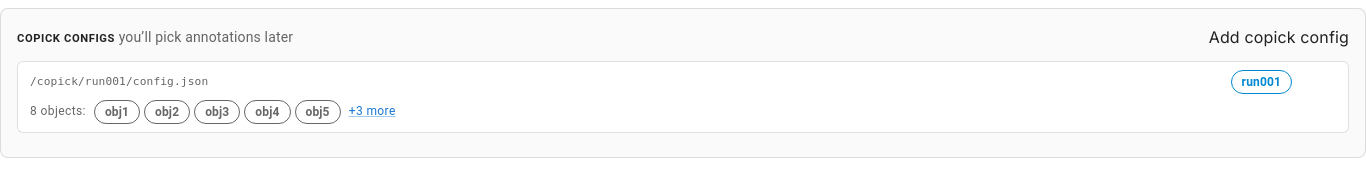
Test: caps the object chips and expands via "+N more"
This screenshot has width=1366, height=175.
Expected: the text "obj5" is shown, [306,105,330,119]
Expected: the text "obj6" is not shown
Step 1. Click the button "+3 more" → coordinates (372, 112), box [349,102,396,122]
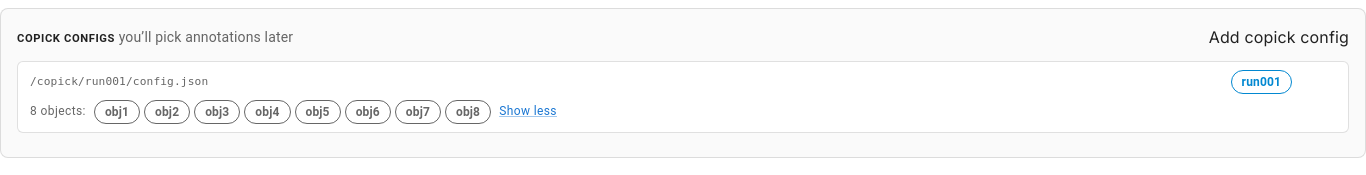
Expected: the text "obj8" is shown, [456,105,480,119]
Step 2. Click the button "Show less" → coordinates (528, 112), box [499,102,557,122]
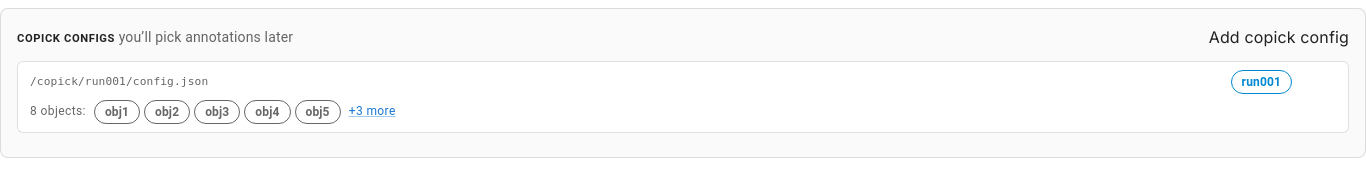
Expected: the text "obj6" is gone
